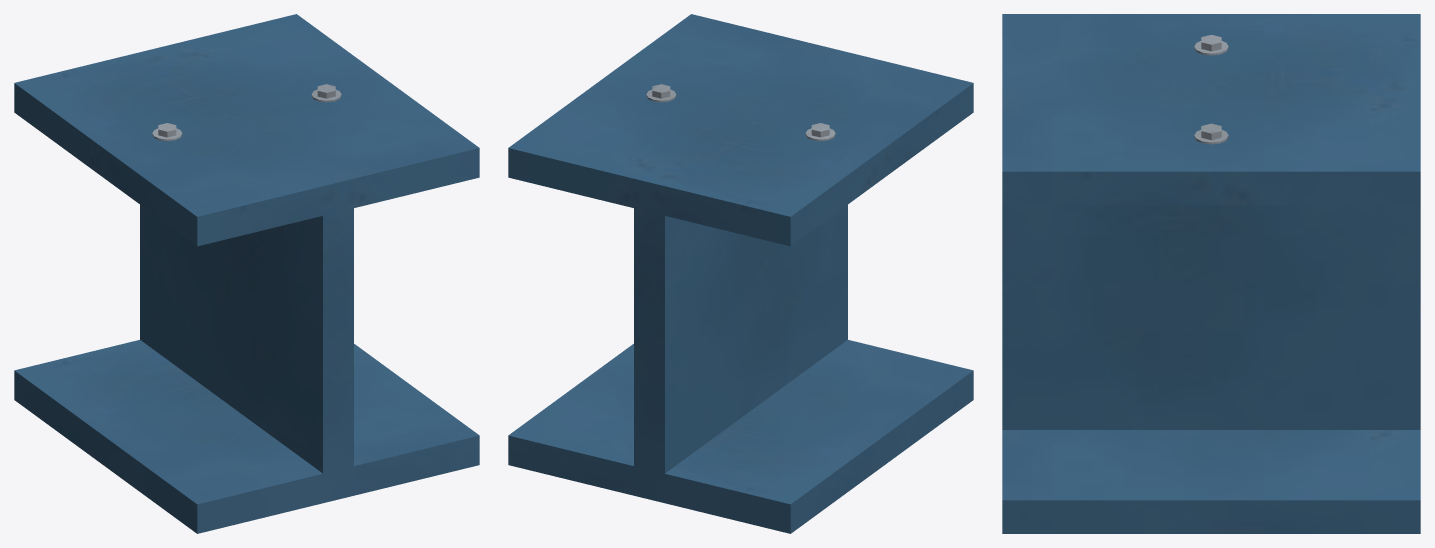
File: ibeam_stub.glb
3 renders of one model, left to right at view 1: azimuth 30°, elevation 25°; view 2: azimuth 150°, elevation 25°; view 3: azimuth 270°, elevation 25°, orthographic. The views are drawn at different scales.
Parts seen in each view (by area): view 1: Body; view 2: Body; view 3: Body.
Boxes of the visible parts, x1=… form: Body: x1=14, y1=14, x2=479, y2=533; Body: x1=508, y1=14, x2=973, y2=533; Body: x1=1002, y1=14, x2=1420, y2=533.
Bounding box in the file's own units: 0.22 × 0.2472 × 0.247.
2 materials, 2 textured.
